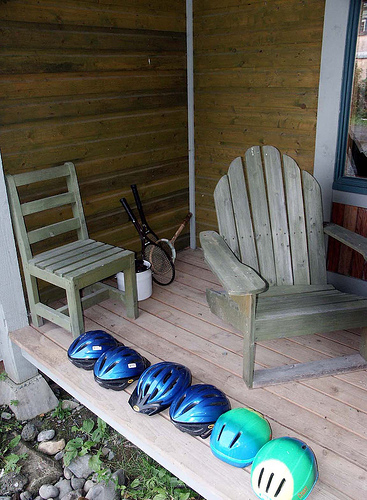helmet: (257, 443, 316, 490), (218, 411, 270, 455), (170, 392, 230, 426), (137, 369, 187, 407), (97, 349, 150, 384), (64, 334, 124, 360)
